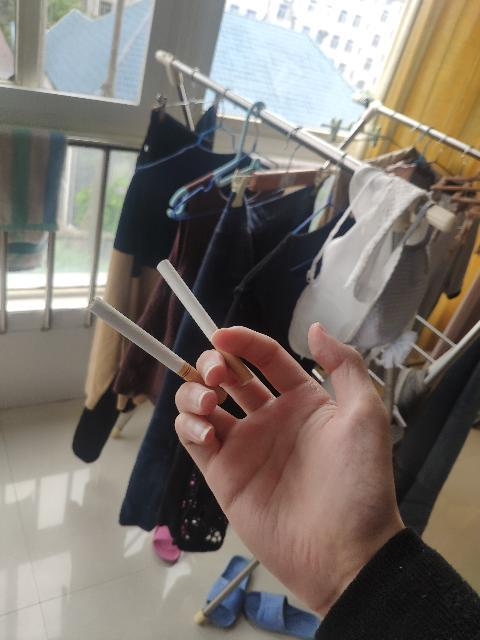Smoking: (88, 296, 228, 408), (156, 258, 254, 388)
